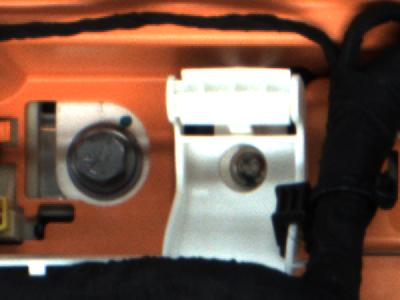nut_b: (63, 116, 142, 196)
